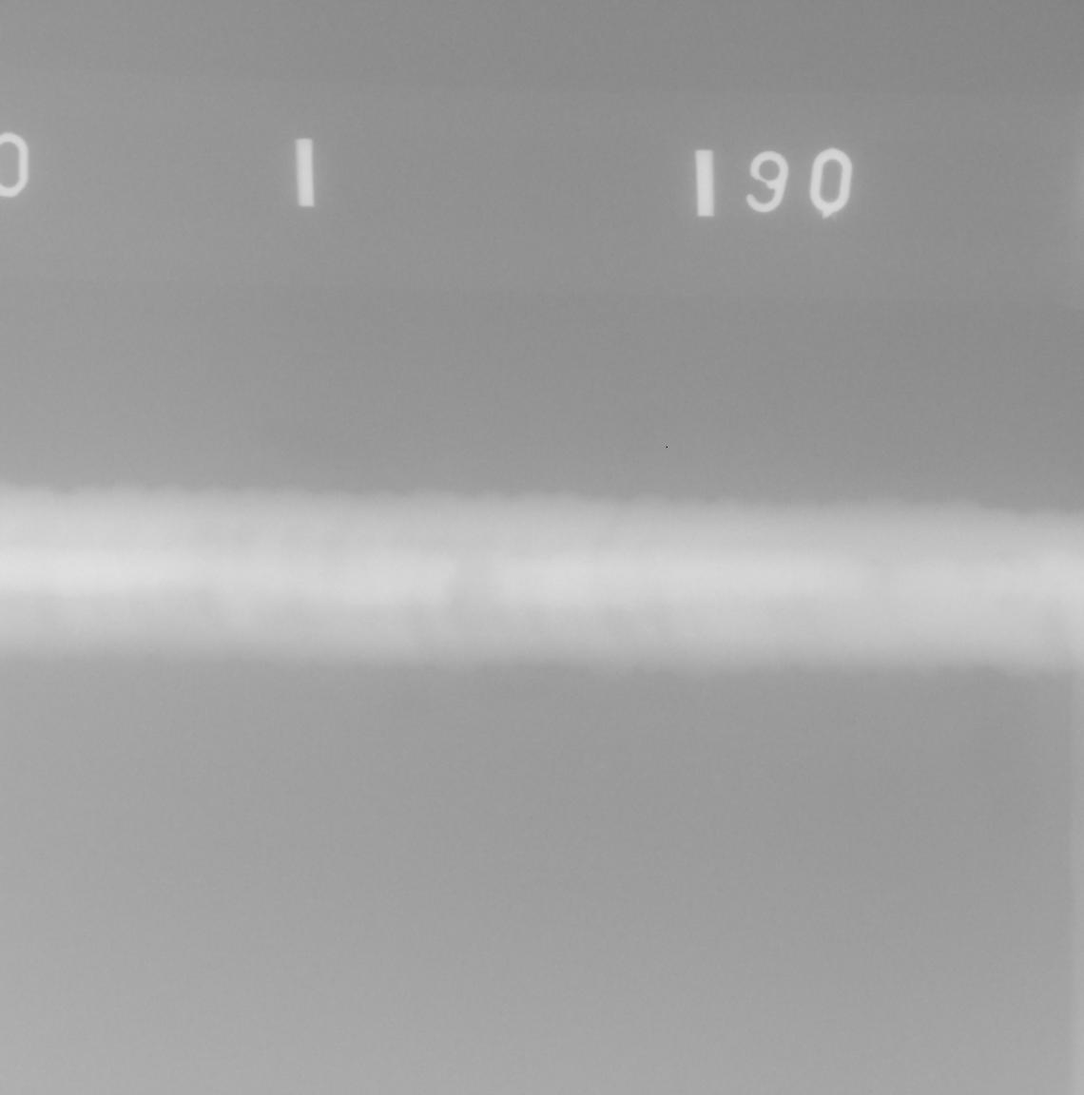Pore/Porosity: (997, 551, 1019, 568)
